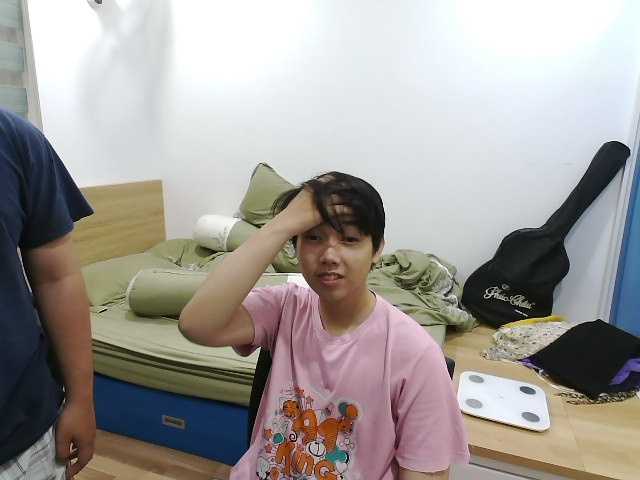face: (293, 172, 387, 303)
